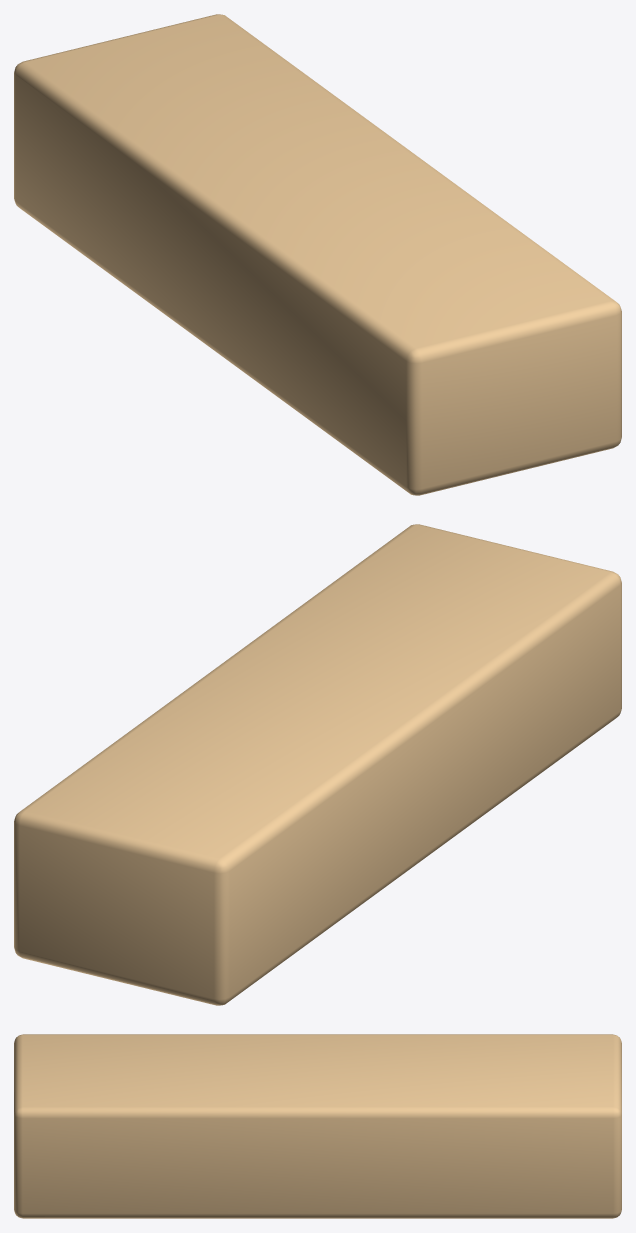
The model's file is block.glb.
3 views of the same model, one above another, from view 1: azimuth 30°, elevation 25°; view 2: azimuth 150°, elevation 25°; view 3: azimuth 270°, elevation 25° (orthographic). The views are drawn at different scales.
Visible parts, largest first — view 1: JengaBlock; view 2: JengaBlock; view 3: JengaBlock.
Part boxes in pixels (x1,y1,x2,y2): JengaBlock: [14, 14, 621, 495]; JengaBlock: [14, 524, 621, 1005]; JengaBlock: [14, 1034, 621, 1218].
Size of the model in its own units: 1.07 by 0.7 by 3.48.
